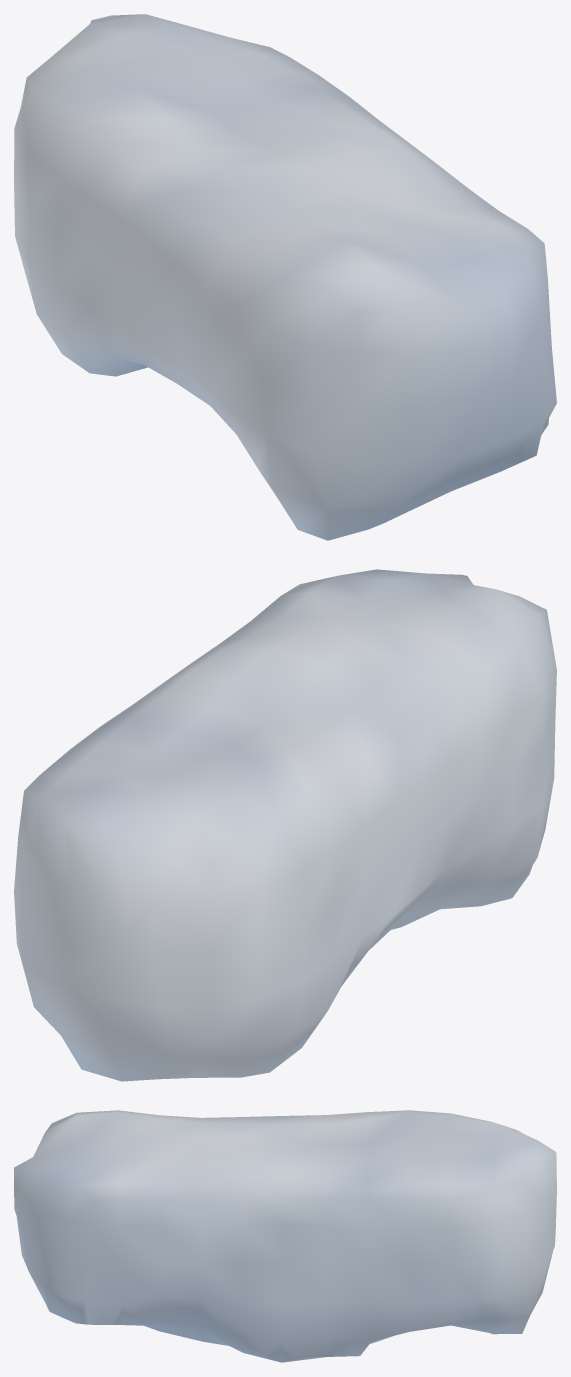
Rendered from Luna0FluttershyNuvemContinuaFinal.glb.
3 renders of one model, top to bottom at view 1: azimuth 30°, elevation 25°; view 2: azimuth 150°, elevation 25°; view 3: azimuth 270°, elevation 25°, orthographic. The views are drawn at different scales.
Parts seen in each view (by area): view 1: Luna0FluttershyNuvemContinuaFinal; view 2: Luna0FluttershyNuvemContinuaFinal; view 3: Luna0FluttershyNuvemContinuaFinal.
Boxes of the visible parts, x1,y1,x2,y2 form: Luna0FluttershyNuvemContinuaFinal: [14, 14, 556, 540]; Luna0FluttershyNuvemContinuaFinal: [14, 569, 556, 1081]; Luna0FluttershyNuvemContinuaFinal: [14, 1110, 556, 1362].
Size of the model in its own units: 1.34 by 1.43 by 3.4.
